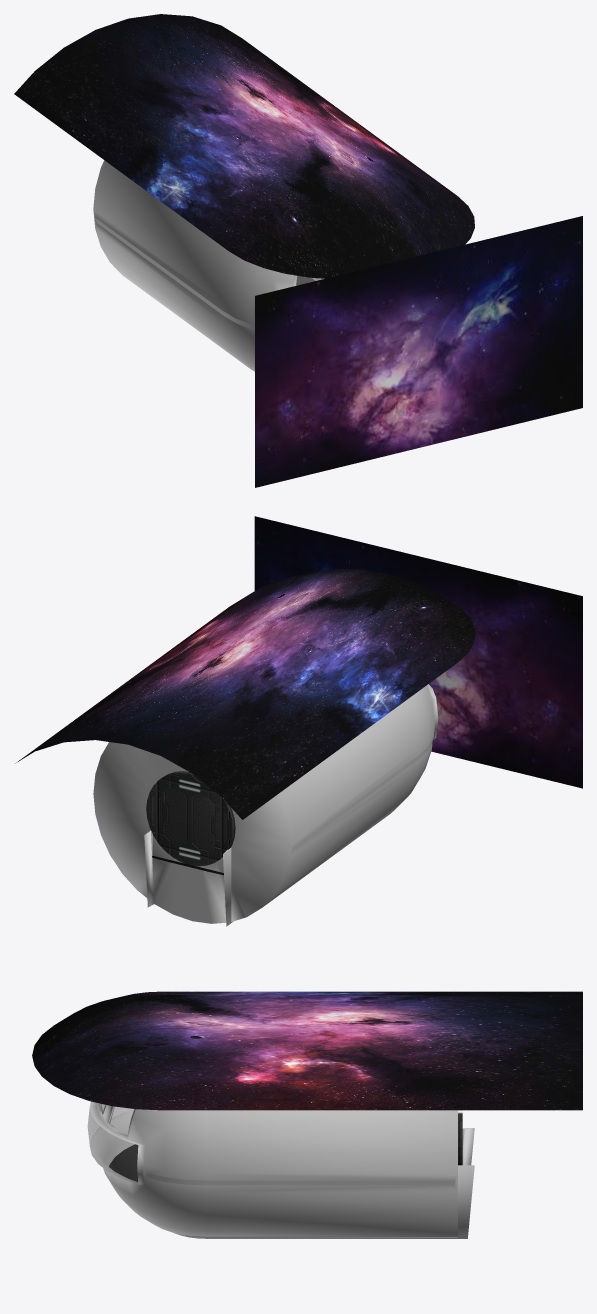
The model's file is Sci-Fi Space Station.fbx.
The picture shows the model from 3 angles, top to bottom: view 1: azimuth 30°, elevation 25°; view 2: azimuth 150°, elevation 25°; view 3: azimuth 270°, elevation 25°; orthographic projection. The views are drawn at different scales.
Visible parts, largest first — view 1: Sci-Fi Space Station; view 2: Sci-Fi Space Station; view 3: Sci-Fi Space Station.
Part boxes in pixels (x1,y1,x2,y2): Sci-Fi Space Station: (14,14,582,487); Sci-Fi Space Station: (15,516,582,926); Sci-Fi Space Station: (32,991,582,1238).
Size of the model in its own units: 11250 by 7313 by 17273.
